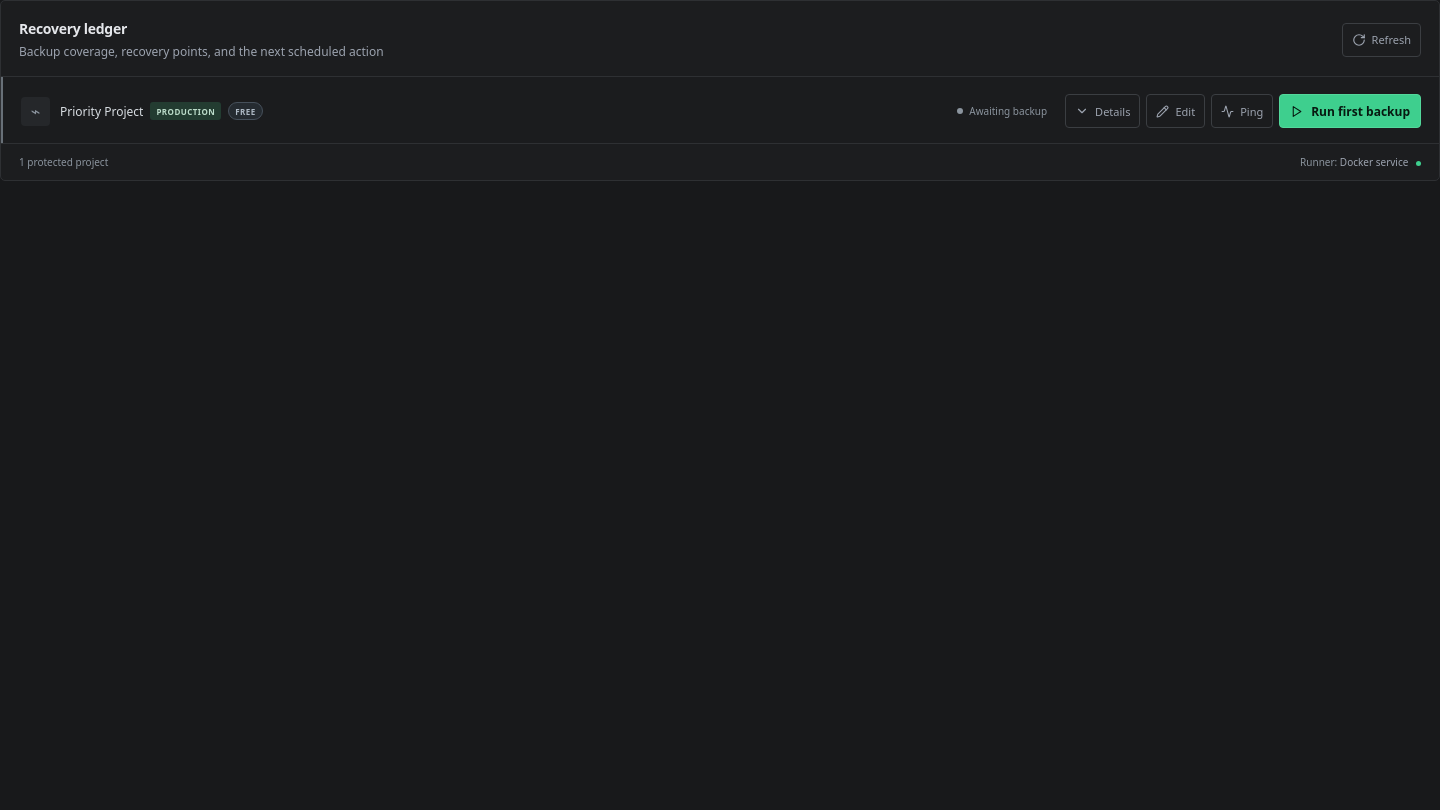
it: ProjectTable › explains first-backup state and exposes useful recovery details
Check: the text "Priority Project" is shown, box [60,102,143,120]
Check: the text "Customer-facing production application." is not shown
Click the button "Details".
click(1103, 111)  # box [1065,94,1140,128]
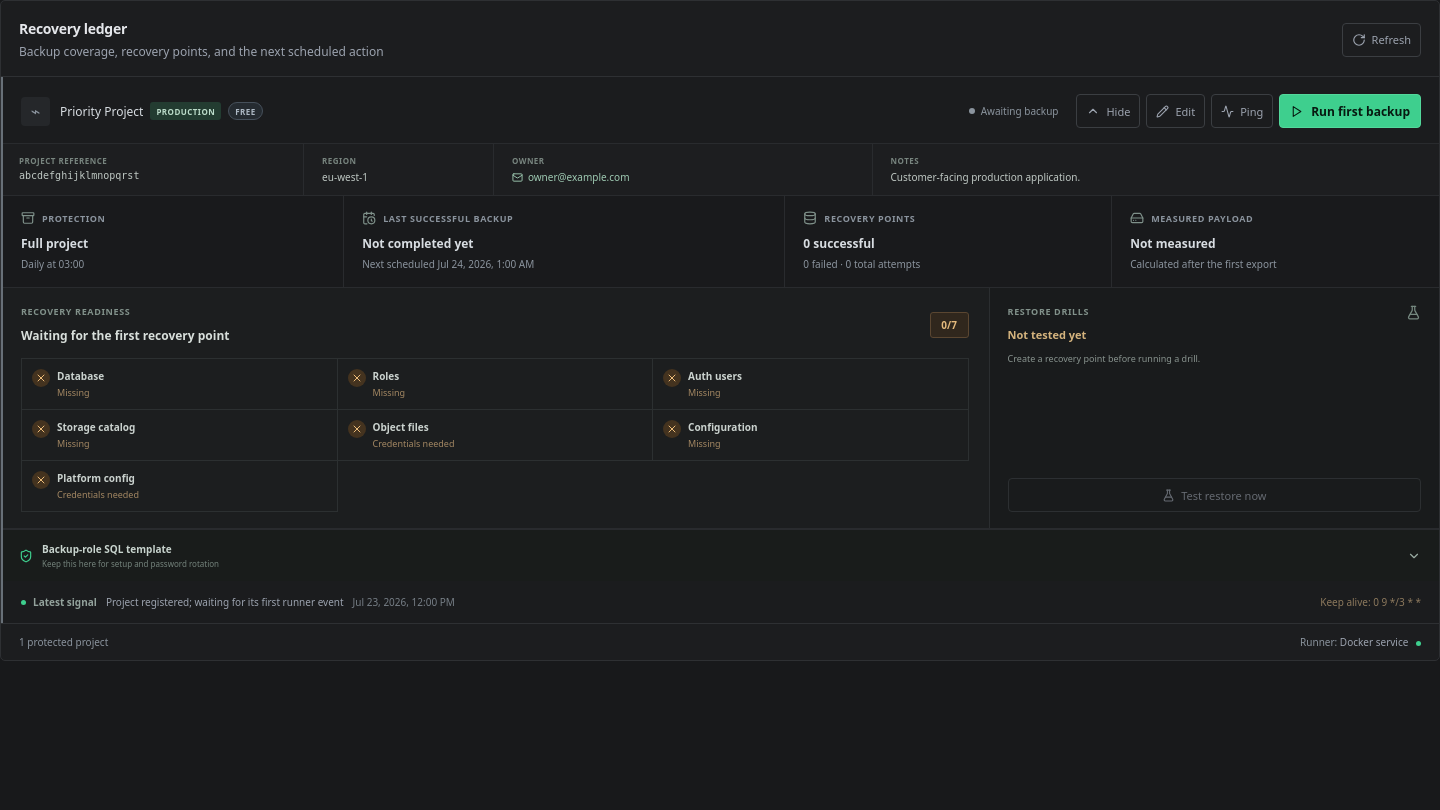
Check: the text "Customer-facing production application." is shown, box [890,170,1080,184]
Check: the text "Not completed yet" is shown, box [362,235,474,252]
Check: the text "0 successful" is shown, box [803,235,875,252]
